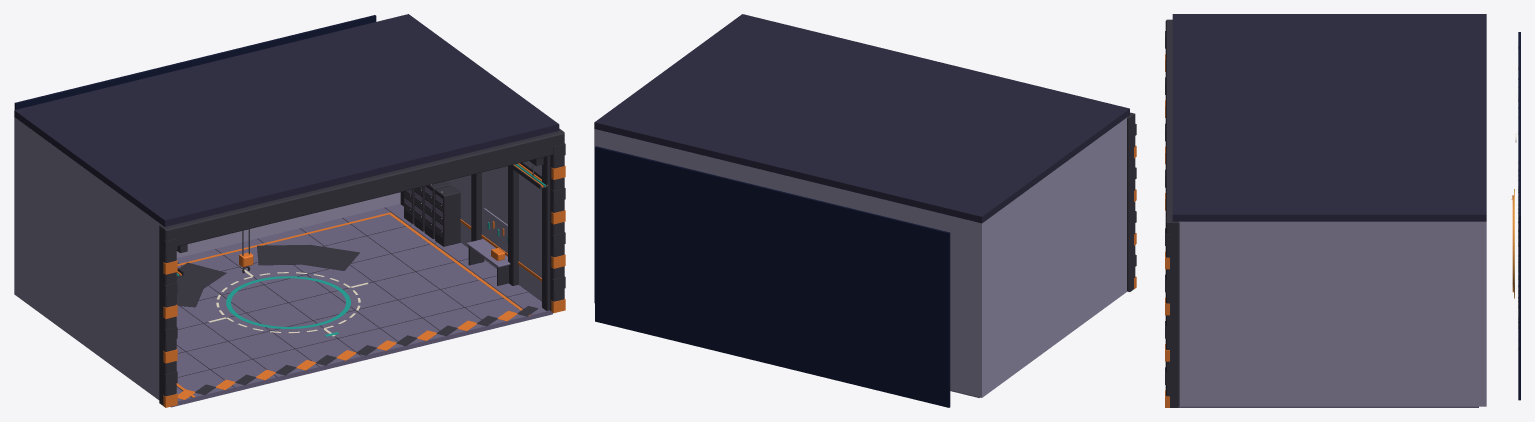
Rendered from hq_hangar.glb.
3 views of the same model, side by side, from view 1: azimuth 30°, elevation 25°; view 2: azimuth 150°, elevation 25°; view 3: azimuth 270°, elevation 25° (orthographic). The views are drawn at different scales.
Parts seen in each view (by area): view 1: shell_ceiling, shell_floor, shell_wall, shell_graphite, shell_orange, window_space, shell_teal, walls_purpleGrey, structure_steel, shell_creamHull; view 2: window_space, shell_ceiling, shell_wall, shell_graphite; view 3: shell_ceiling, shell_wall, shell_graphite, window_space, shell_floor, shell_orange.
Part boxes in pixels (x1,y1,x2,y2): shell_ceiling: (14,14,559,226); shell_floor: (170,203,552,407); shell_wall: (14,117,541,399); shell_graphite: (159,128,565,405); shell_orange: (163,163,565,407); window_space: (14,15,376,109); shell_teal: (176,164,546,336); walls_purpleGrey: (404,186,510,267); structure_steel: (242,165,533,255); shell_creamHull: (208,269,368,336); window_space: (595,146,950,407); shell_ceiling: (594,14,1129,223); shell_wall: (594,117,1126,397); shell_graphite: (1127,112,1136,291); shell_ceiling: (1172,14,1486,221); shell_wall: (1179,221,1486,406); shell_graphite: (1165,19,1179,407); window_space: (1518,32,1520,400); shell_floor: (1178,406,1478,407); shell_orange: (1165,54,1169,407).
Bounding box in the file's own units: 18.87 × 8.5 × 13.95.
